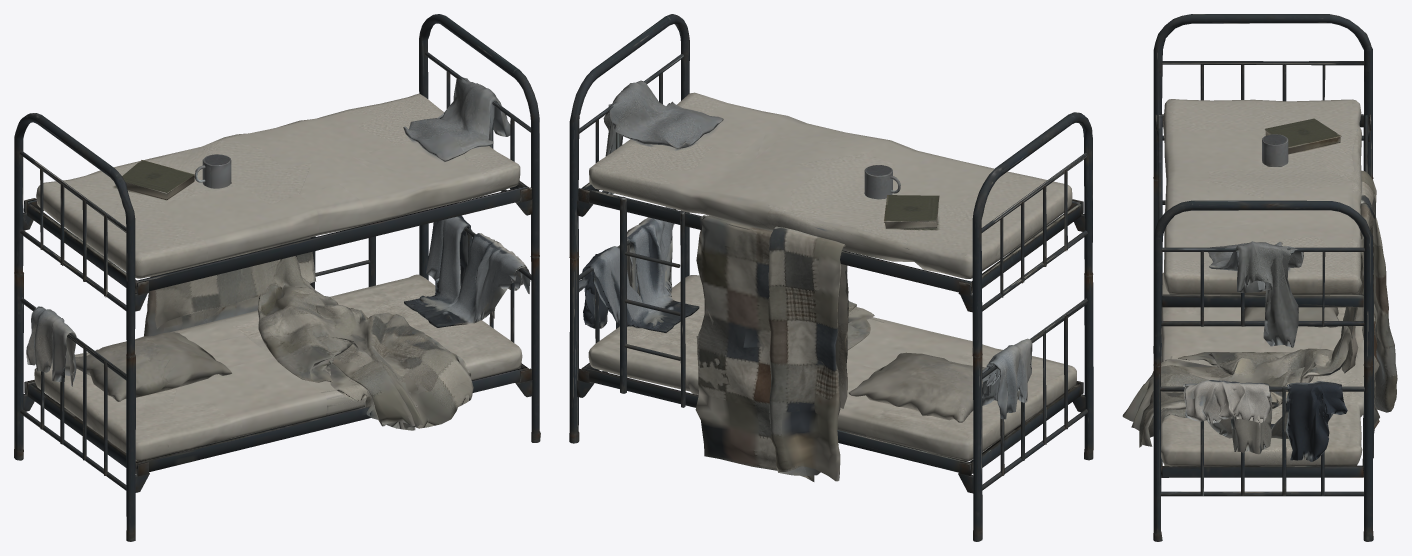
The model's file is silo81_bunk_b.glb.
The picture shows the model from 3 angles, left to right: view 1: azimuth 30°, elevation 25°; view 2: azimuth 150°, elevation 25°; view 3: azimuth 270°, elevation 25°; orthographic projection. The views are drawn at different scales.
Bounding box in the file's own units: 0.9497 × 0.7402 × 0.5444.
1 material, 1 textured.
